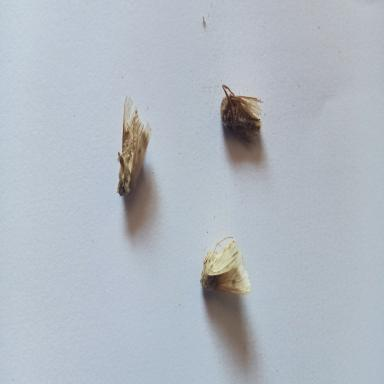abw: (200, 231, 252, 299), (117, 94, 149, 200), (217, 79, 263, 148)
